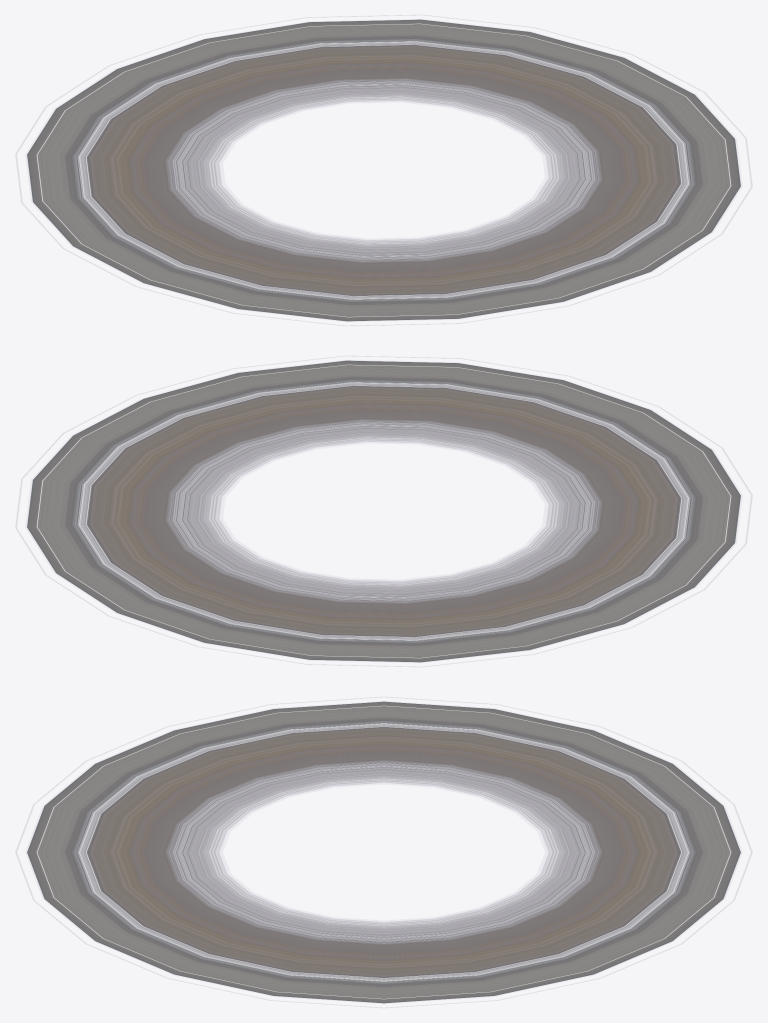
The model's file is saturn_rings.glb.
3 renders of one model, top to bottom at view 1: azimuth 30°, elevation 25°; view 2: azimuth 150°, elevation 25°; view 3: azimuth 270°, elevation 25°, orthographic.
Parts seen in each view (by area): view 1: Icosphere.001; view 2: Icosphere.001; view 3: Icosphere.001.
Part boxes in pixels (left/top/right/bottom): Icosphere.001: left=27, top=19, right=740, bottom=321; Icosphere.001: left=27, top=360, right=740, bottom=662; Icosphere.001: left=27, top=701, right=740, bottom=1003.
Size of the model in its own units: 4.98 by 6.29e-06 by 4.98.
1 material, 1 textured.
